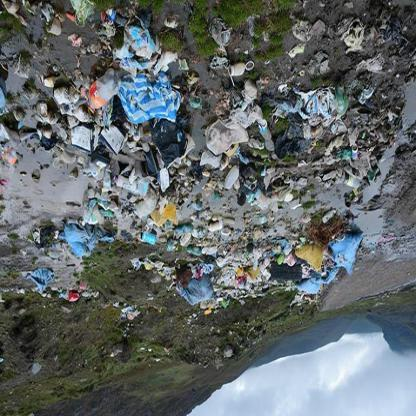Plastic: (260, 122, 275, 156), (224, 166, 239, 192), (209, 221, 223, 233), (259, 258, 270, 272)
Trash: (121, 76, 179, 123), (66, 228, 105, 264), (210, 121, 248, 153), (280, 123, 307, 158), (332, 237, 359, 271), (298, 89, 332, 115), (157, 127, 183, 160), (292, 21, 320, 50), (180, 283, 213, 303), (271, 96, 298, 119), (298, 247, 329, 267), (212, 21, 231, 50), (308, 55, 329, 77), (314, 274, 333, 295), (337, 80, 347, 115), (256, 187, 270, 211), (297, 281, 320, 295), (346, 178, 361, 192)
